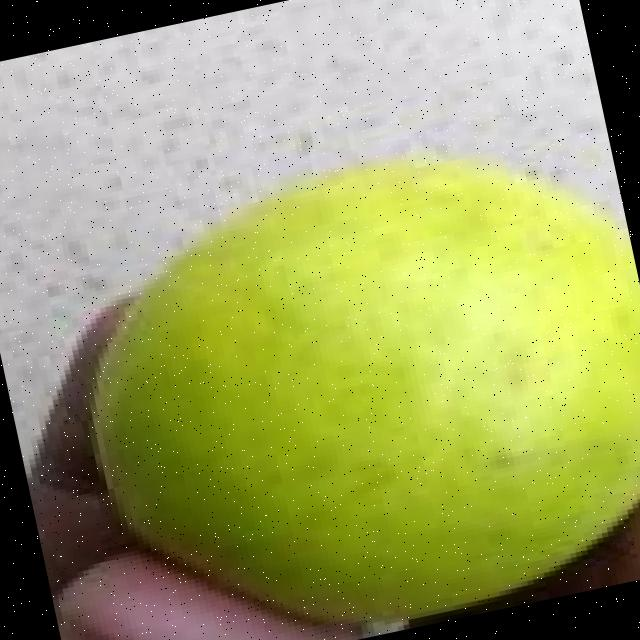Good_Lime-10-21-days: (86, 154, 640, 630)
